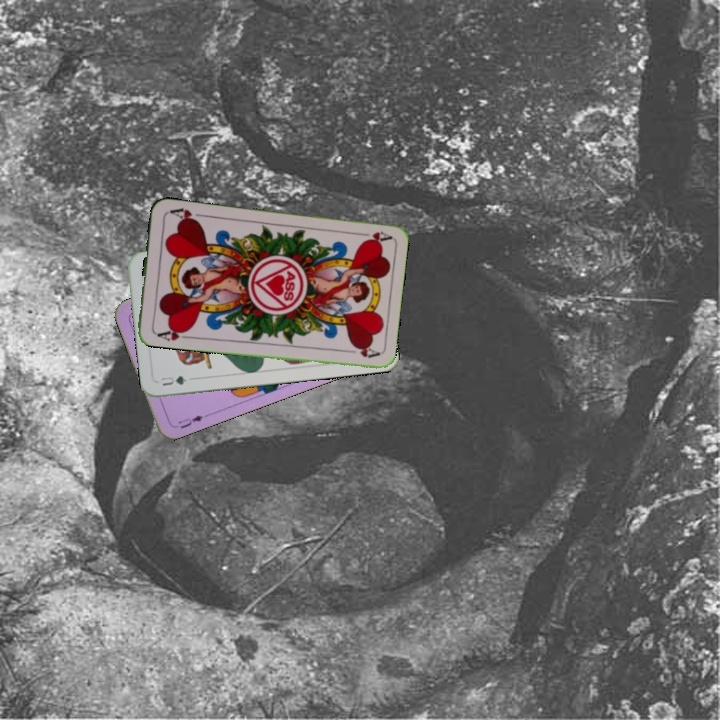EU: (174, 410, 210, 431)
GU: (157, 371, 195, 389)
HA: (151, 323, 192, 343), (352, 227, 393, 245)
